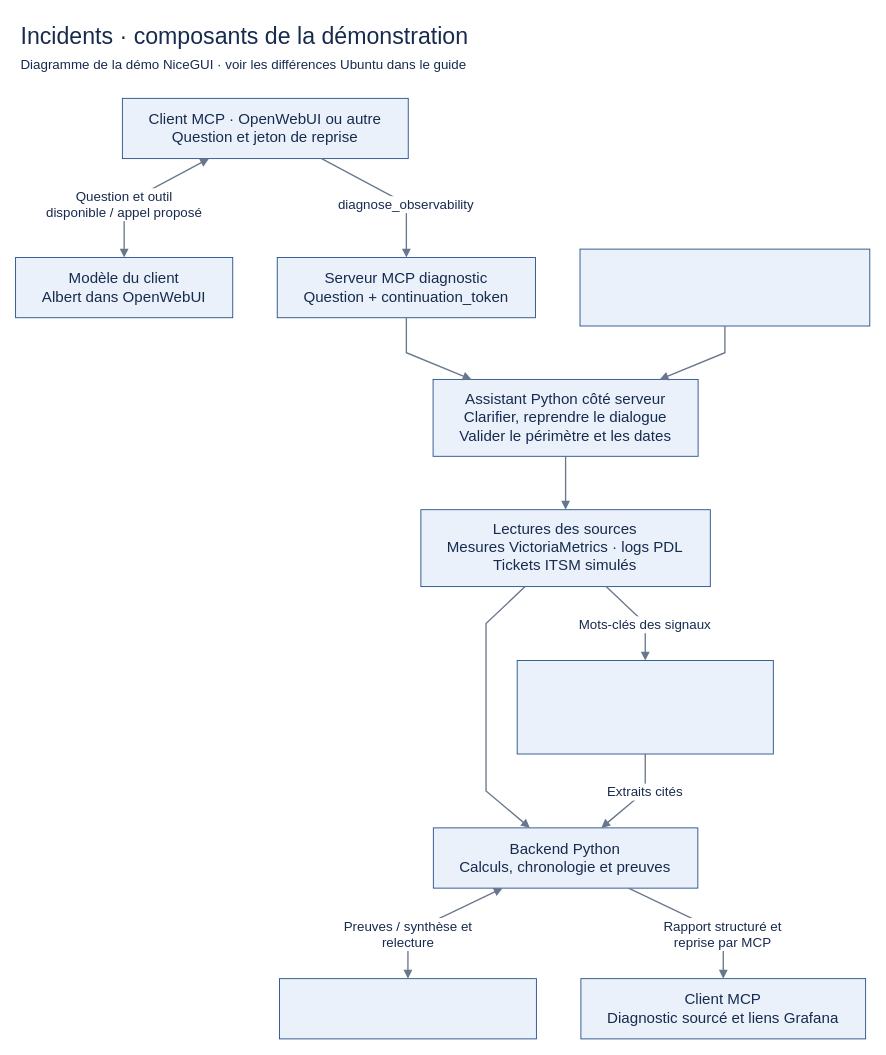
This 886x1055 diagram has some shape labels left out. Here are the shapes that lost their labels. From the top down, the centre of each, then its label:
the point at 724,287: Inventaire et mapping des mesures Équipements autorisés et séries associées
the point at 644,707: Documentation OpenSearch Fiches techniques et incidents passés RAG lexical
the point at 407,1008: Albert API Formuler et relire le diagnostic
